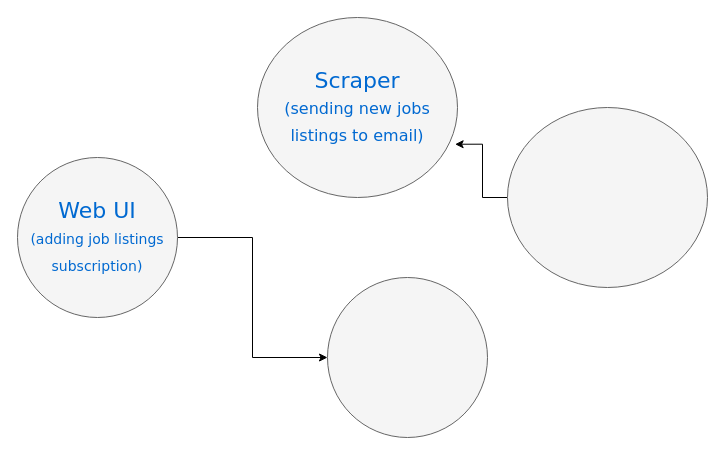
The diagram is 725 pixels wide and 455 high, and some of its shapes have lost their labels. Here are the shapes that lost their labels. From the top down, the box of each, then its label:
(506, 106, 708, 288): Cron job (run every 15 minutes to get new jobs)
(326, 276, 488, 438): Backend (save subscriptions to database)
